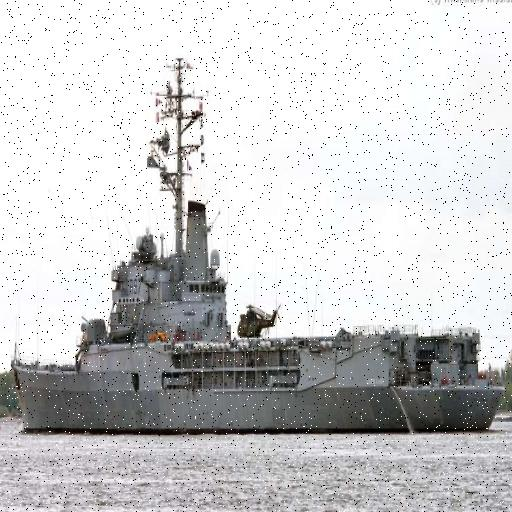Portanaves: (8, 61, 512, 435)
